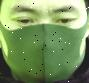with_mask: (1, 2, 89, 83)
